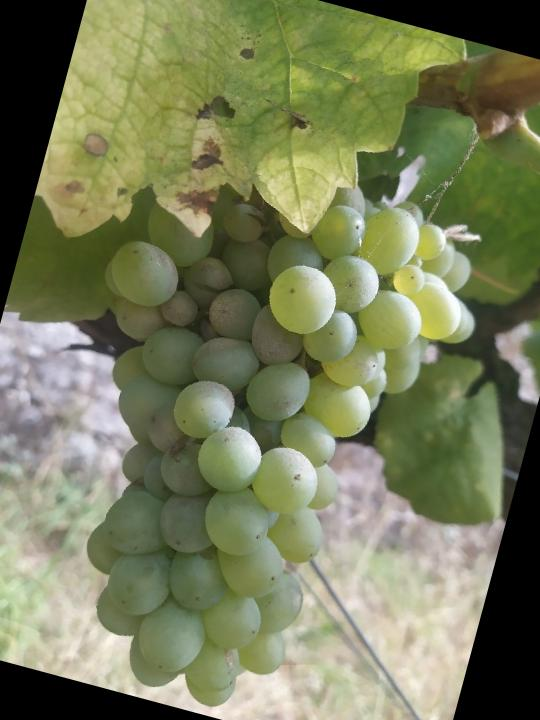grape: (5, 126, 509, 720)
